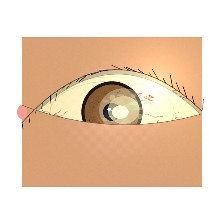corneal_ulcer: (98, 89, 149, 131)
